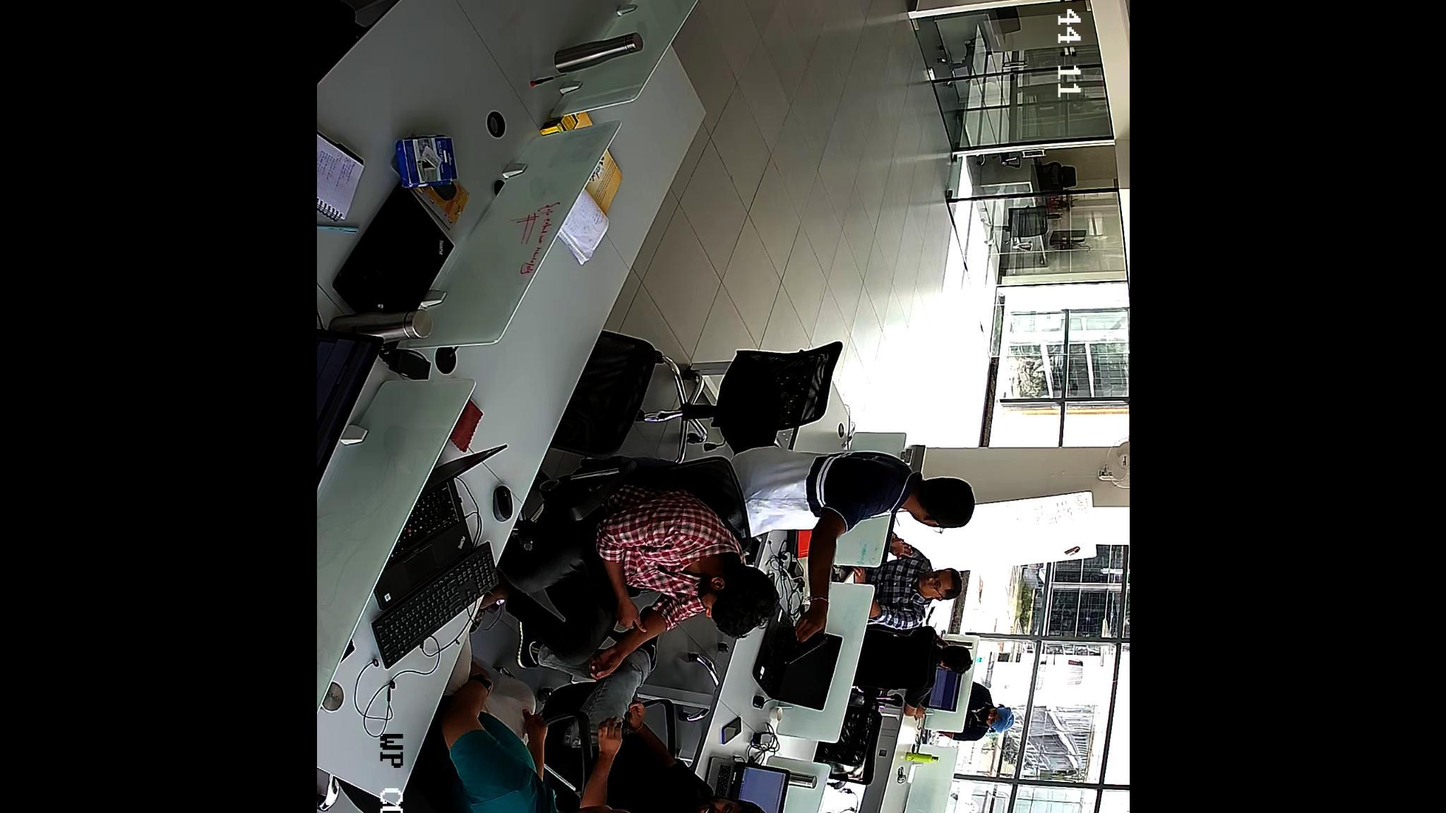gun: (784, 619, 827, 663)
